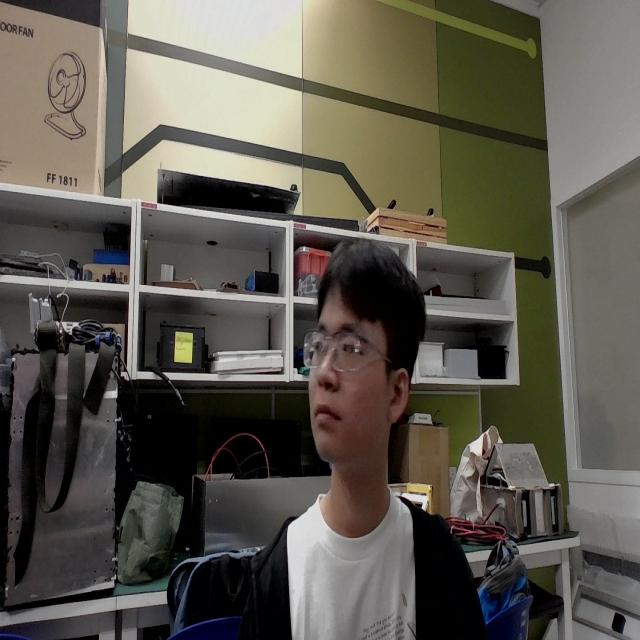Without Helmet: (286, 209, 439, 515)
